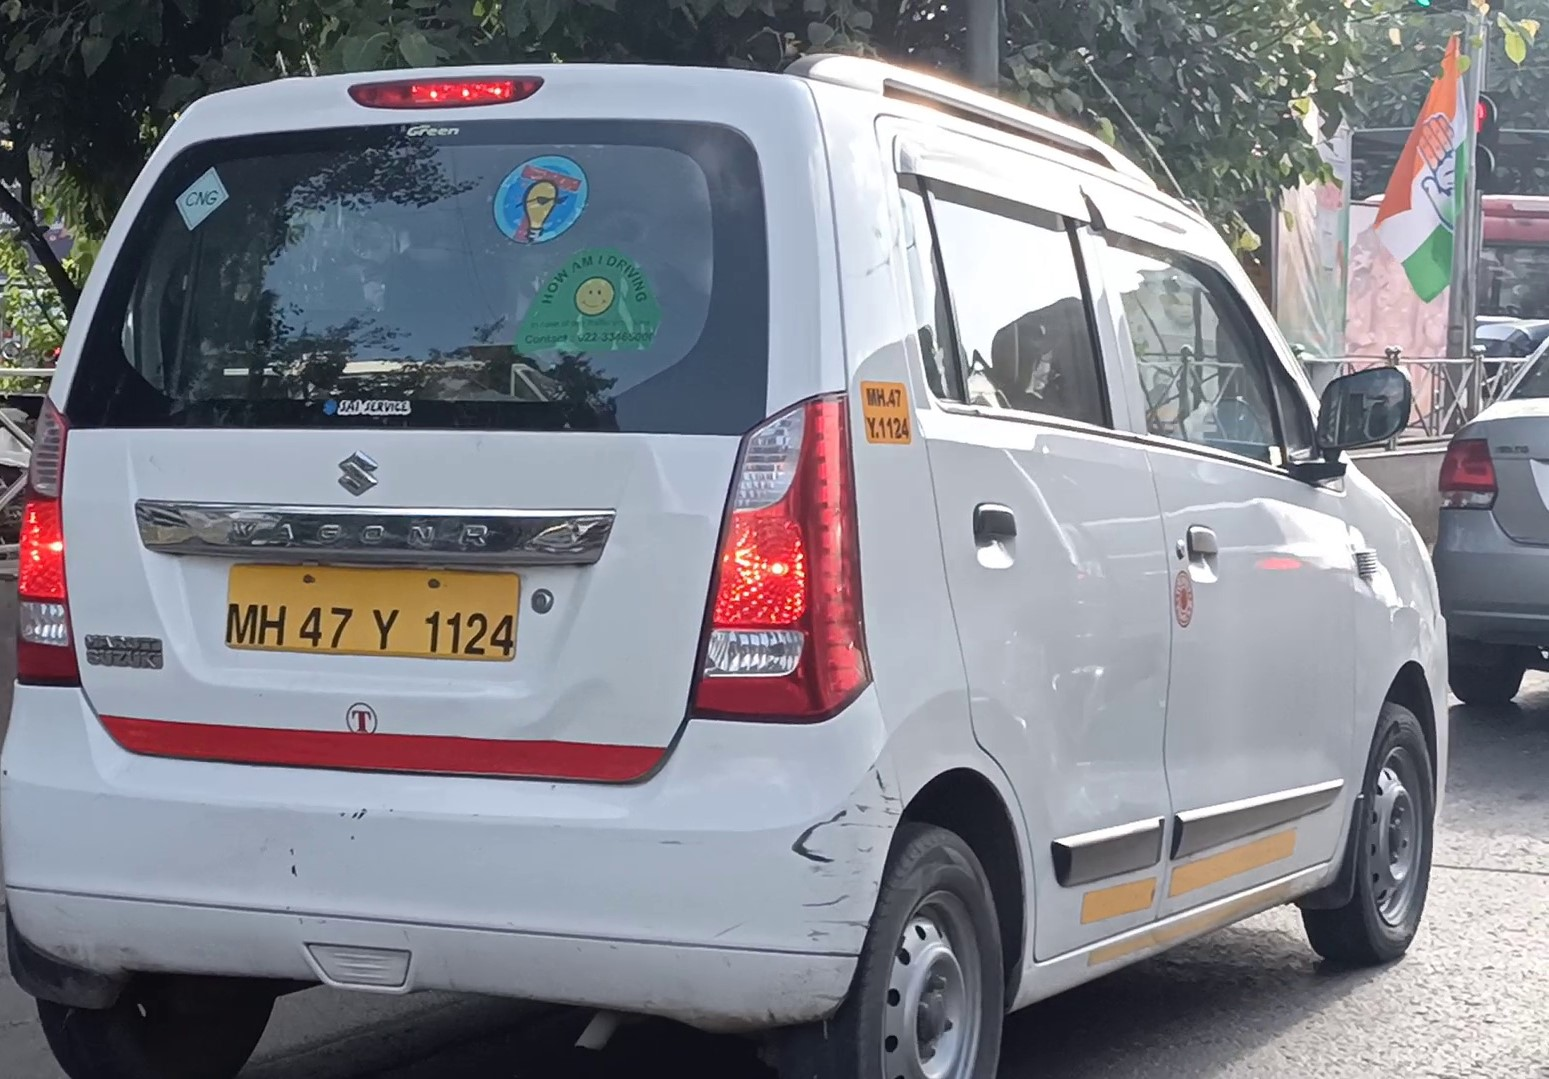MH47Y1124: (224, 562, 524, 662)
